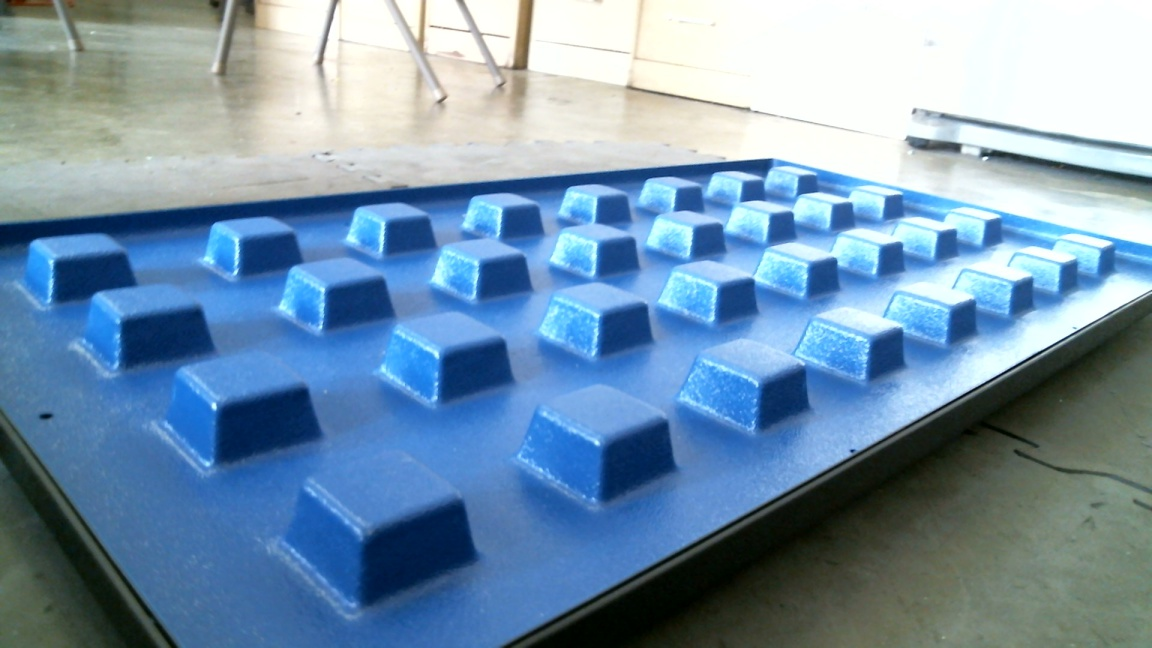blue_foundation: (1, 157, 1146, 648)
